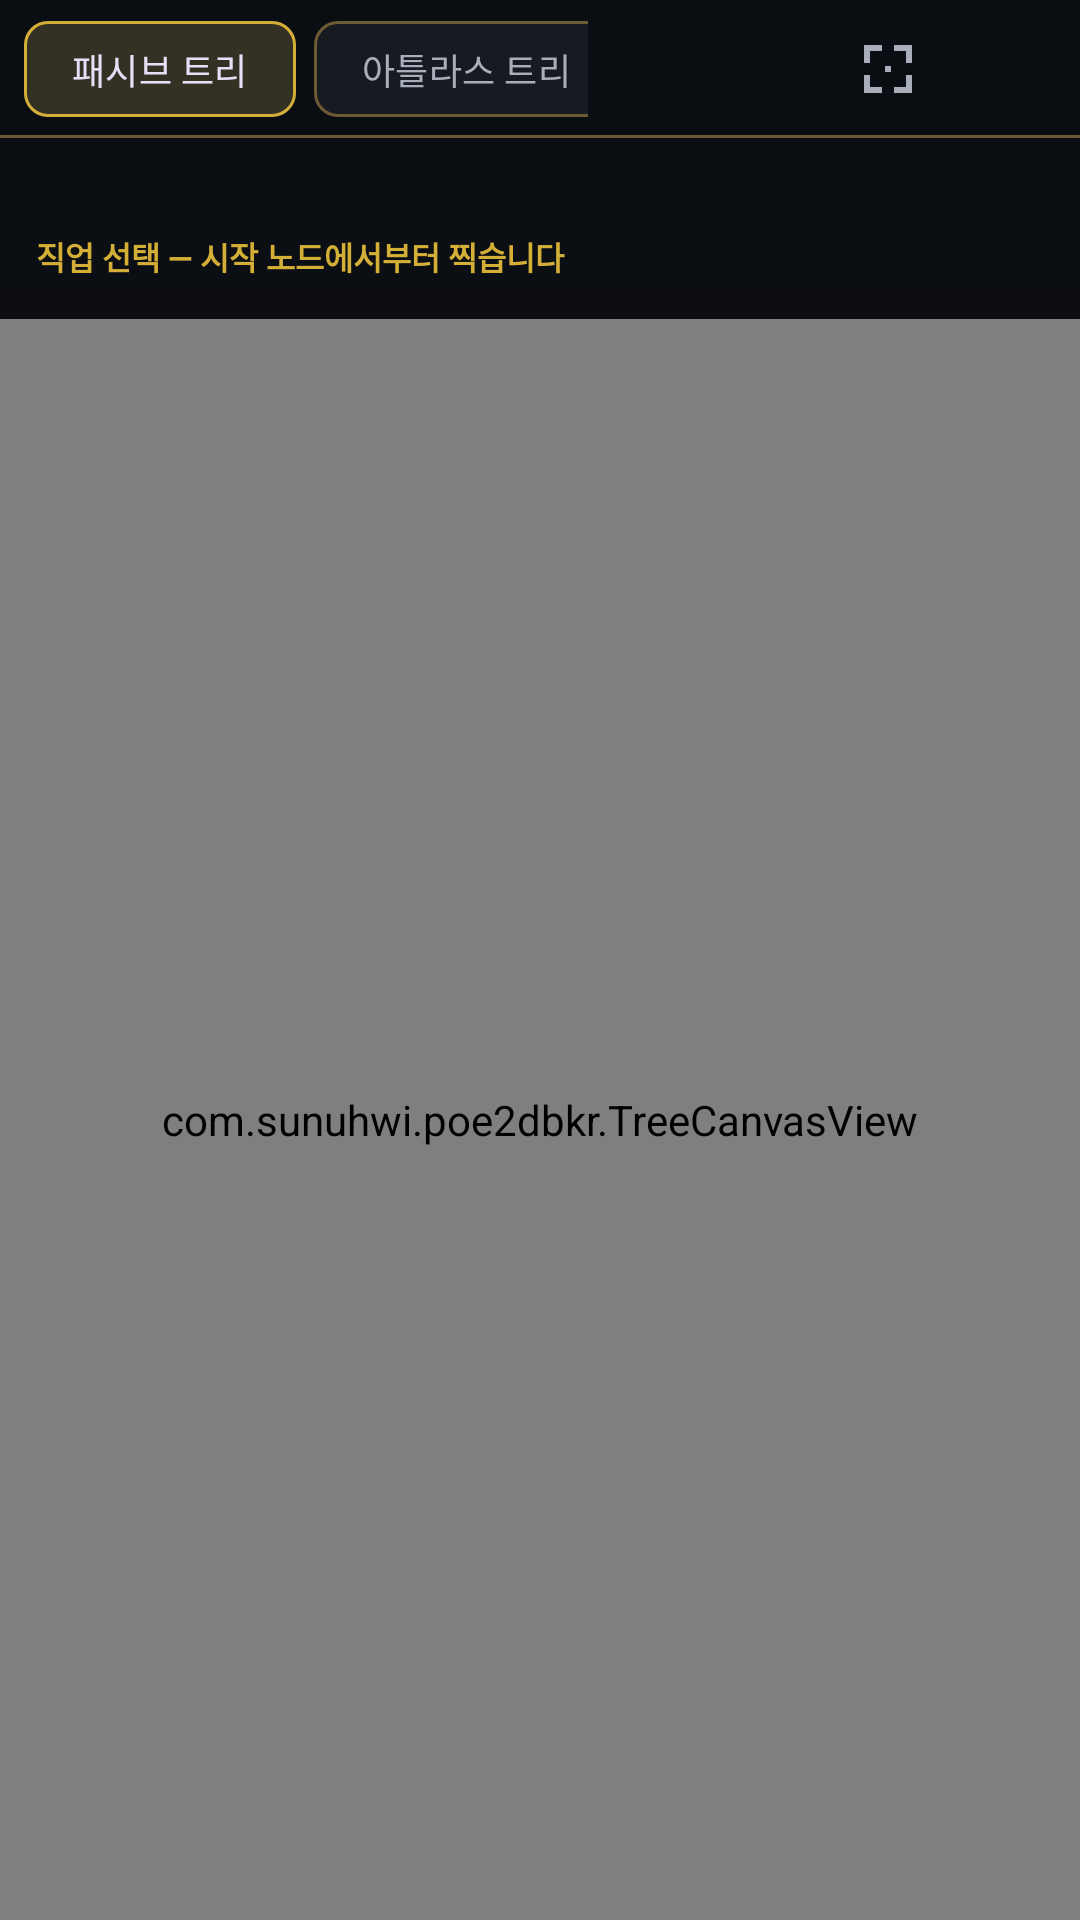

Point at icon controls on the screen. Image size 1080px x 1920px, points as (x=x, y=y).
트리 전체 보기: (x=888, y=69)
